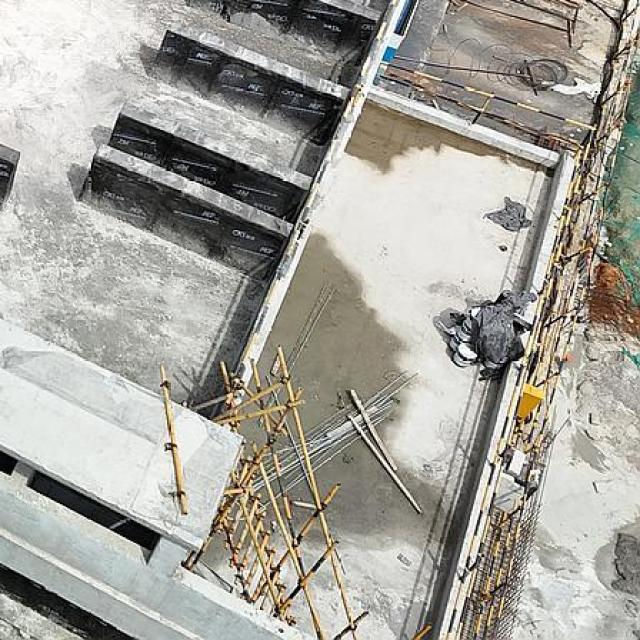edge_guardrail: (378, 59, 598, 638), (476, 114, 625, 640), (232, 0, 399, 380)
